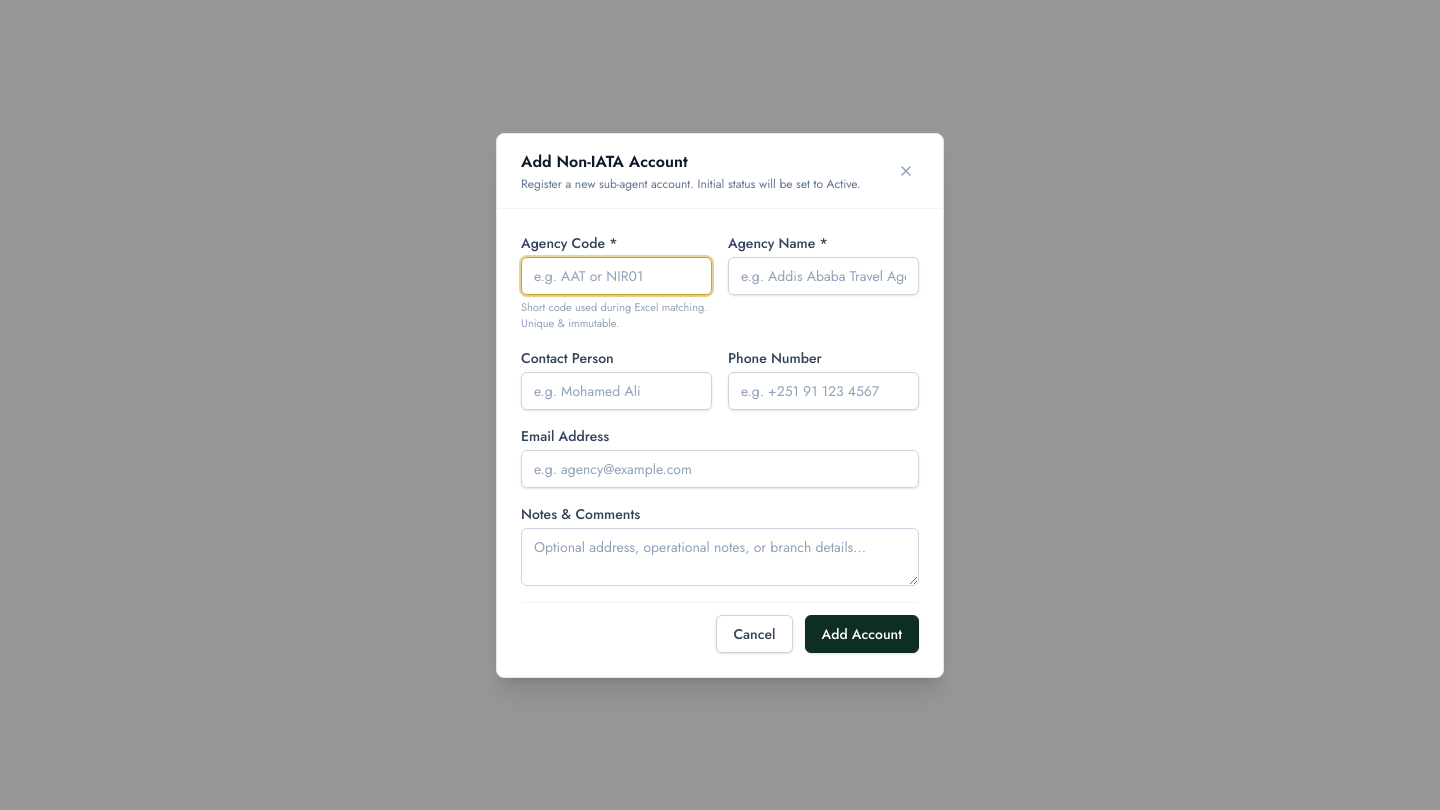
Scenario: NonIataCreateModal › displays API error when server returns 409 Conflict / duplicate code
This screenshot has width=1440, height=810.
Type "TEST01" into the field labelled "Agency Code *" at (616, 276), box [521, 256, 712, 294]
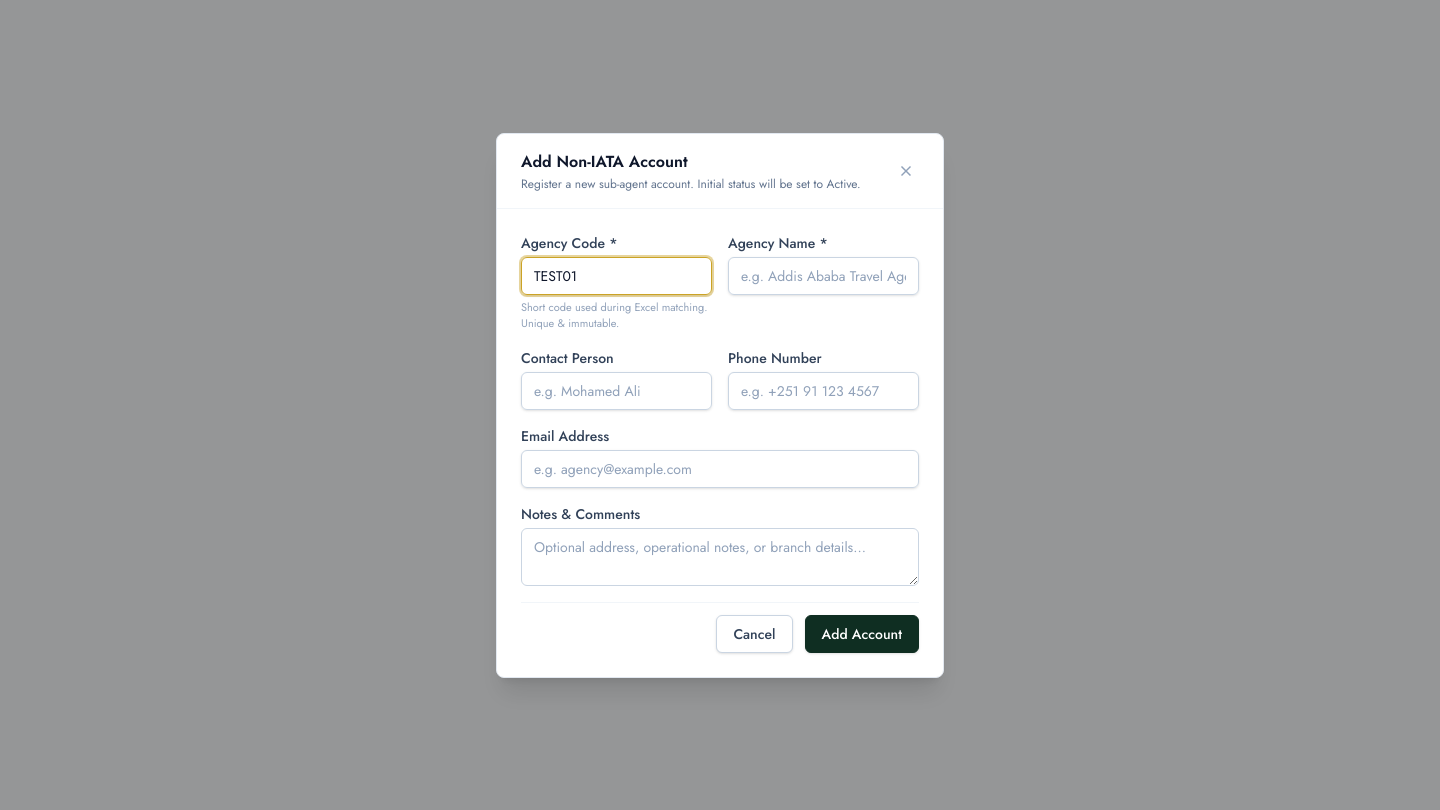
Type "Test Agency" into the field labelled "Agency Name *" at (824, 276), box [728, 256, 919, 294]
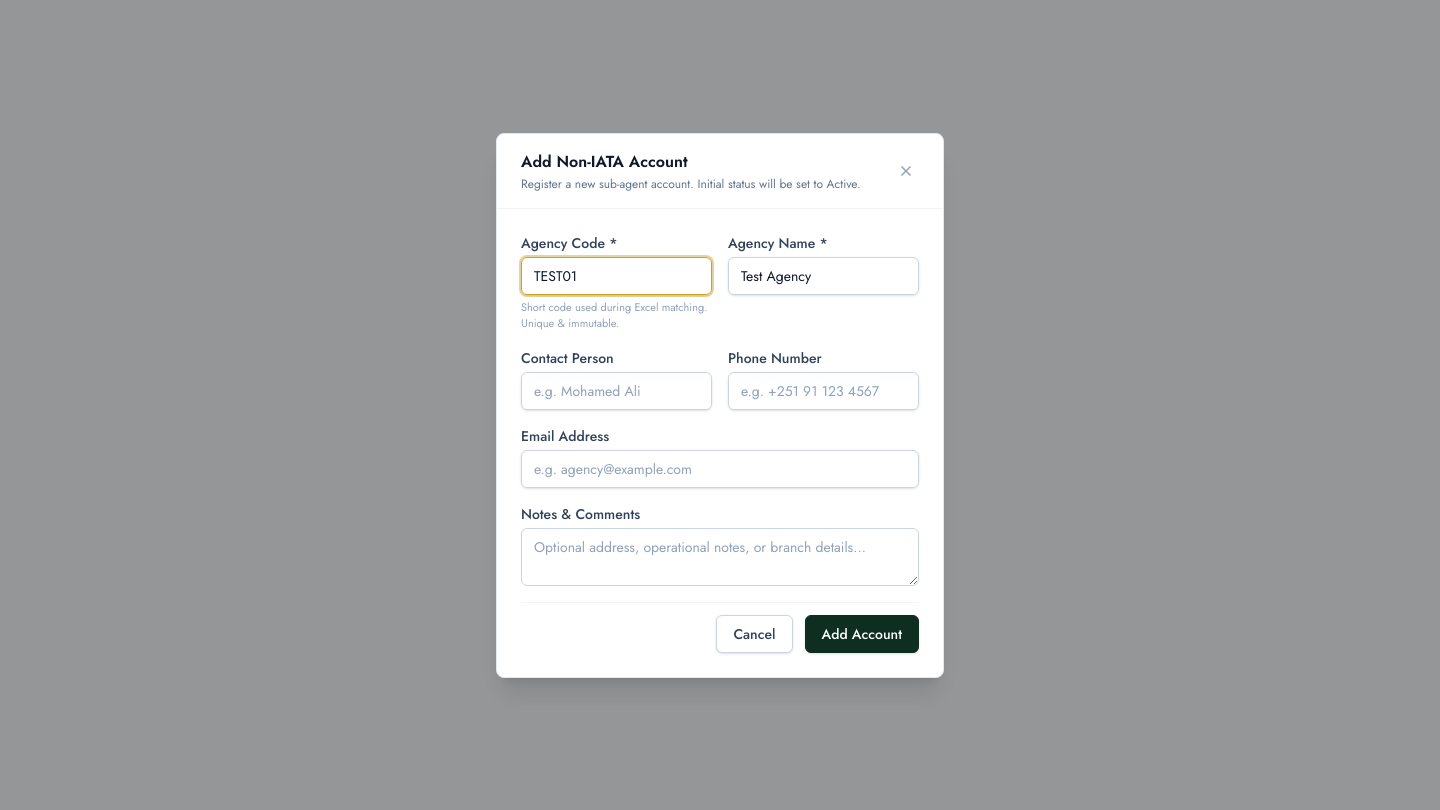
Click the button "Add Account" at (862, 634), box [804, 614, 919, 652]
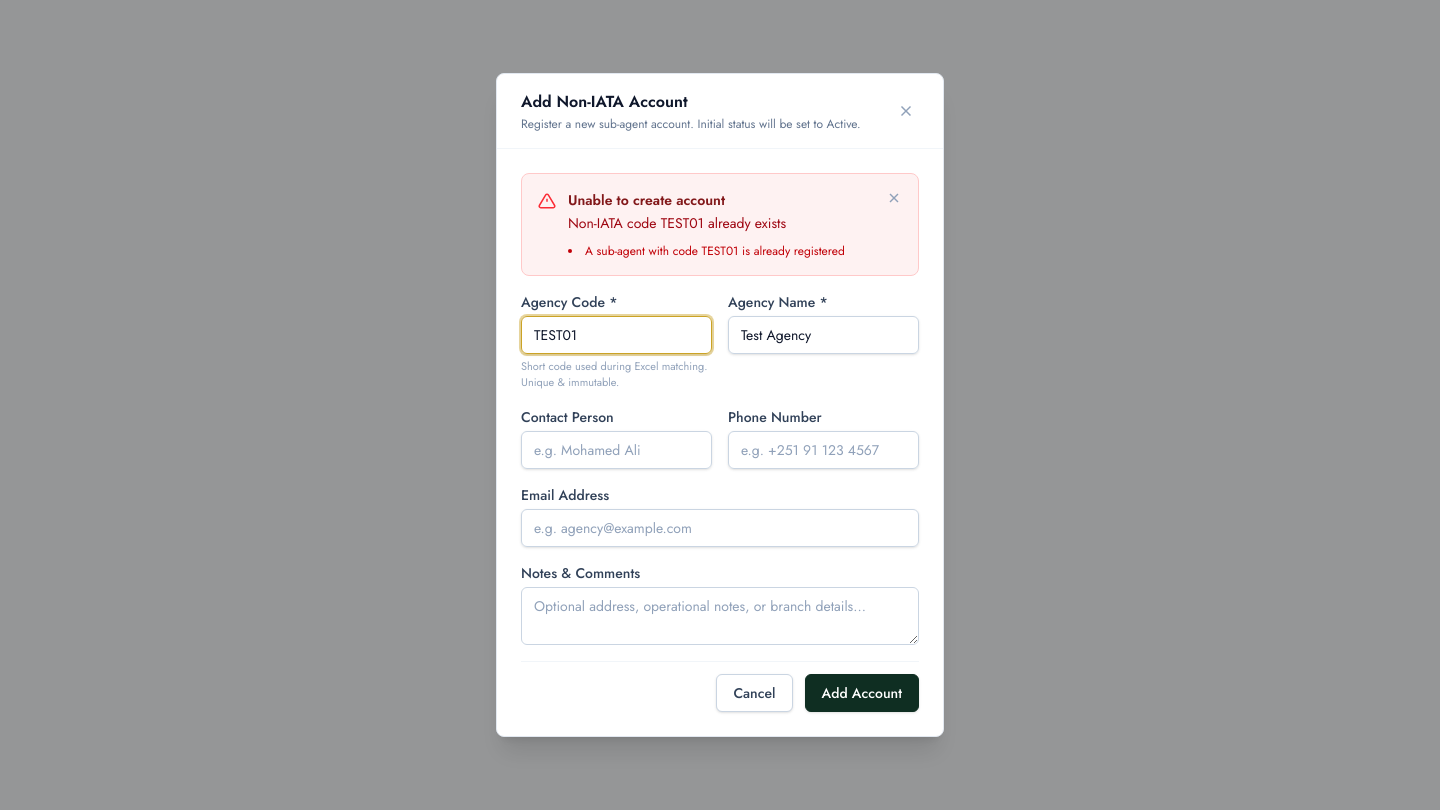
Expected: the text "Non-IATA code TEST01 already exists" is shown, [568, 213, 786, 233]
Expected: the list item "A sub-agent with code TEST01 is already registered" is shown, [568, 243, 870, 259]
